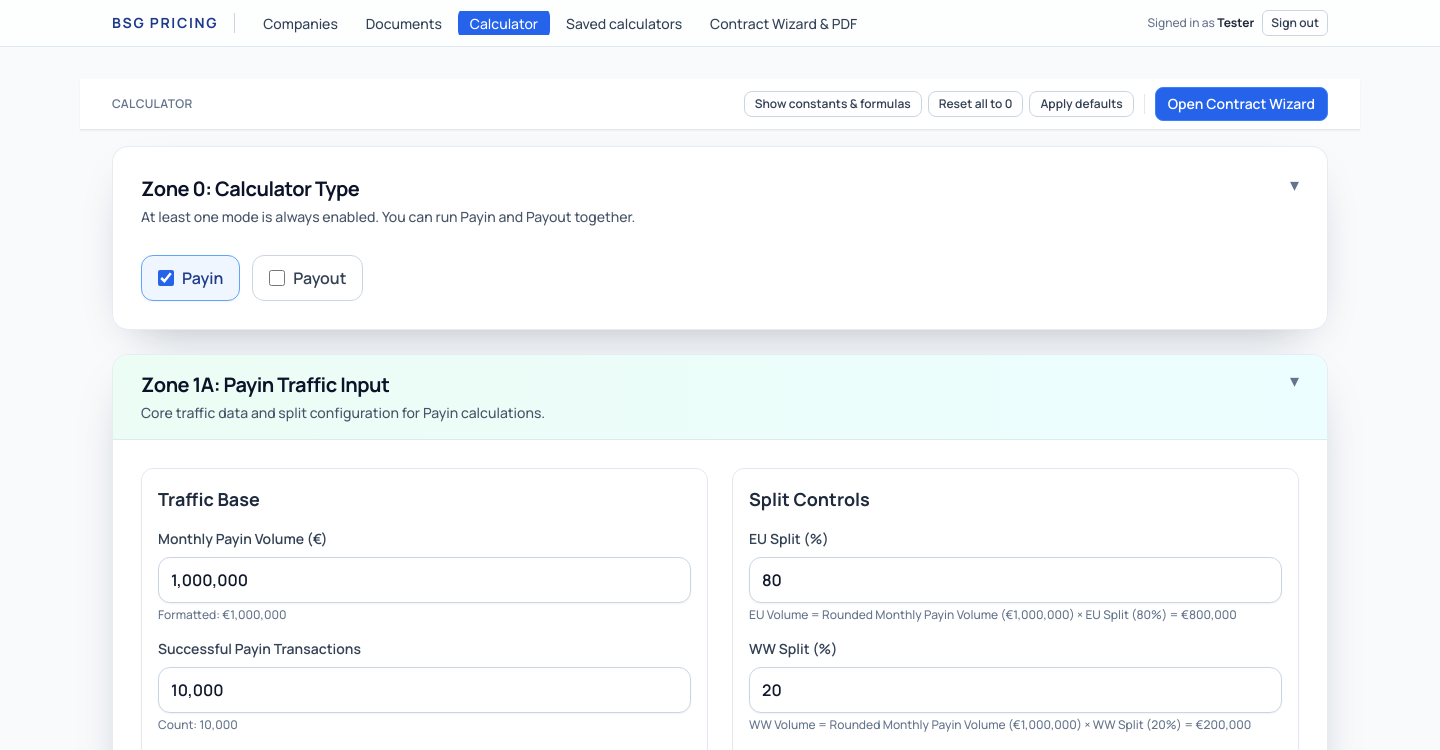
it: App core flow › hides hardcoded constants by default and toggles them from top control
Check: the heading "Hardcoded Calculation Constants" is not shown
Click the button "Show constants & formulas". click: click(833, 104)
box: [744,91,922,117]
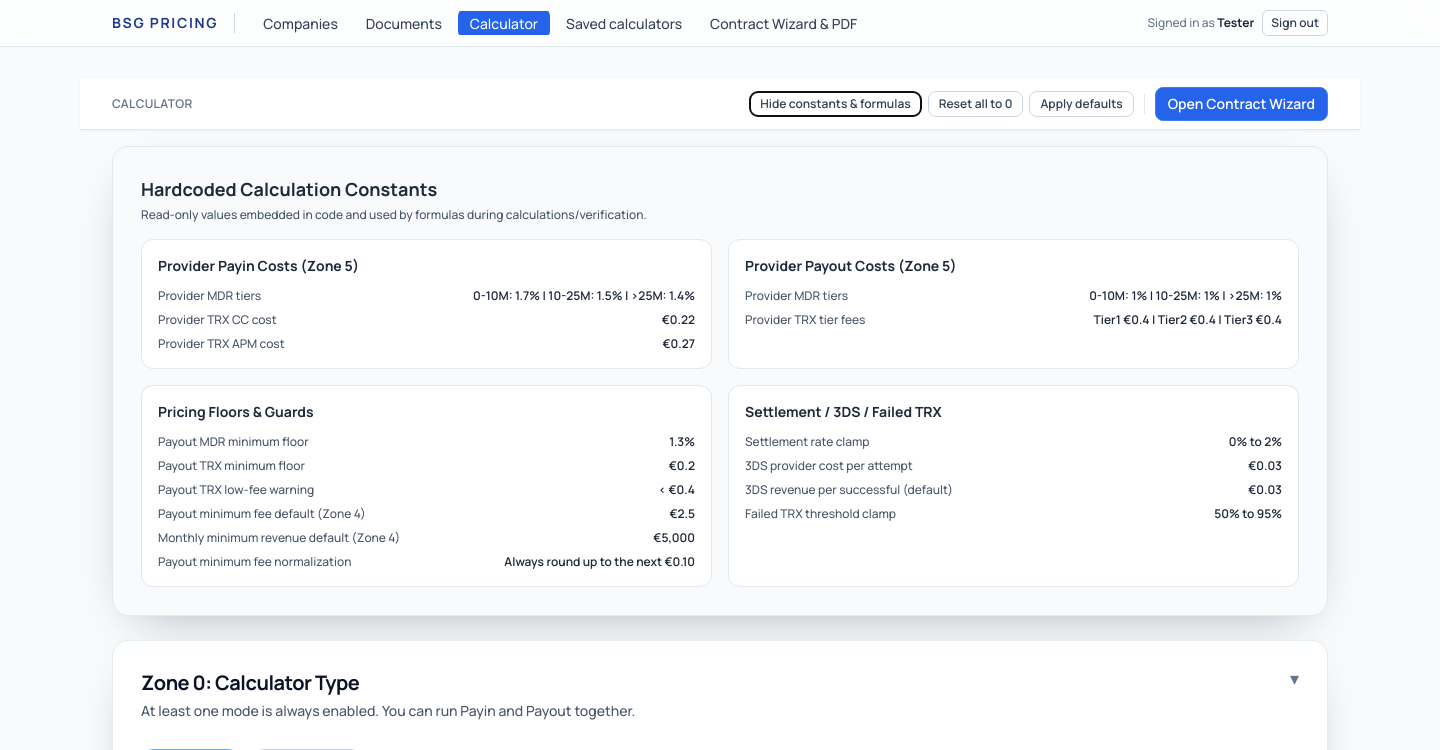
Check: the heading "Hardcoded Calculation Constants" is shown, box [141,177,437,201]
Check: the heading "Provider Payin Costs (Zone 5)" is shown, box [158,256,359,275]
Check: the text "Provider TRX CC cost" is shown, box [158,311,277,328]
Click the button "Hide constants & formulas". click: click(835, 104)
box: [749,91,922,117]
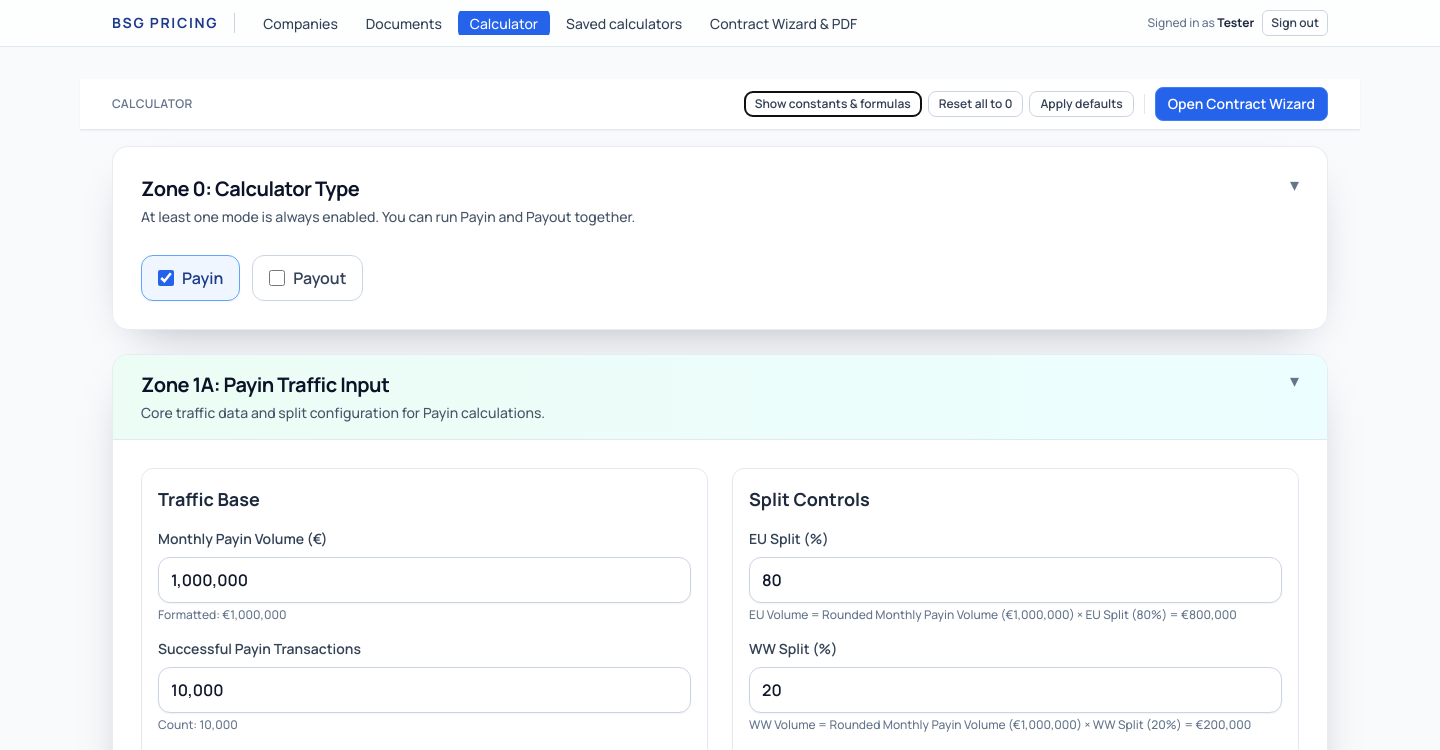
Check: the heading "Hardcoded Calculation Constants" is gone
